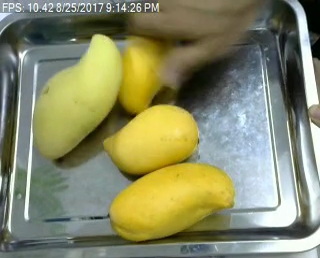Mango: (32, 33, 125, 158), (108, 161, 236, 241), (99, 103, 200, 173), (117, 27, 180, 114)
